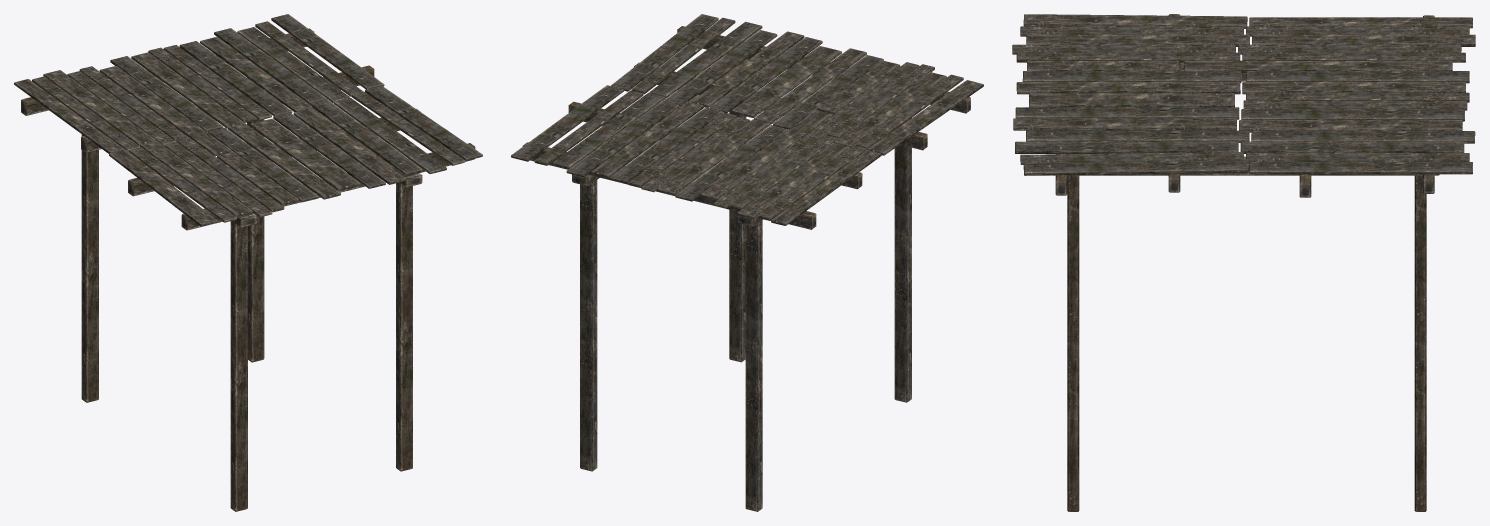
The model's file is Ground_Cover.fbx.
The picture shows the model from 3 angles, left to right: view 1: azimuth 30°, elevation 25°; view 2: azimuth 150°, elevation 25°; view 3: azimuth 270°, elevation 25°; orthographic projection. The views are drawn at different scales.
Parts seen in each view (by area): view 1: Ground_Firebay_Double_Wood_LOD0; view 2: Ground_Firebay_Double_Wood_LOD0; view 3: Ground_Firebay_Double_Wood_LOD0.
Part boxes in pixels (left/top/right/bottom): Ground_Firebay_Double_Wood_LOD0: left=14, top=14, right=482, bottom=511; Ground_Firebay_Double_Wood_LOD0: left=511, top=14, right=983, bottom=511; Ground_Firebay_Double_Wood_LOD0: left=1012, top=14, right=1475, bottom=511.
Size of what is drawn, in the model's own units: 341 by 345 by 394.
Materials: 1 (1 with a texture image).
